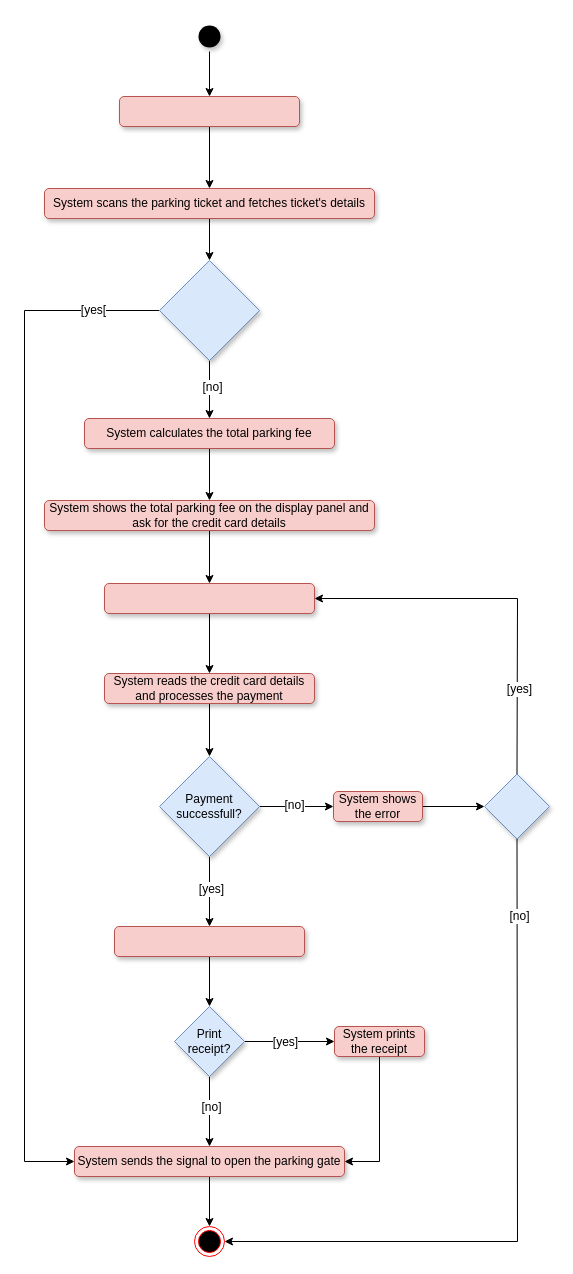
The diagram is 573 pixels wide and 1274 high, and some of its shapes have lost their labels. Each missing label, with the centre of its shape:
Customer inserts the credit card in the card reader: the point at 210,599
Customer inserts the parking ticket in the exit panel: the point at 210,113
System shows success message: the point at 210,943
Ticket already paid?: the point at 210,312
Try again?: the point at 518,807
